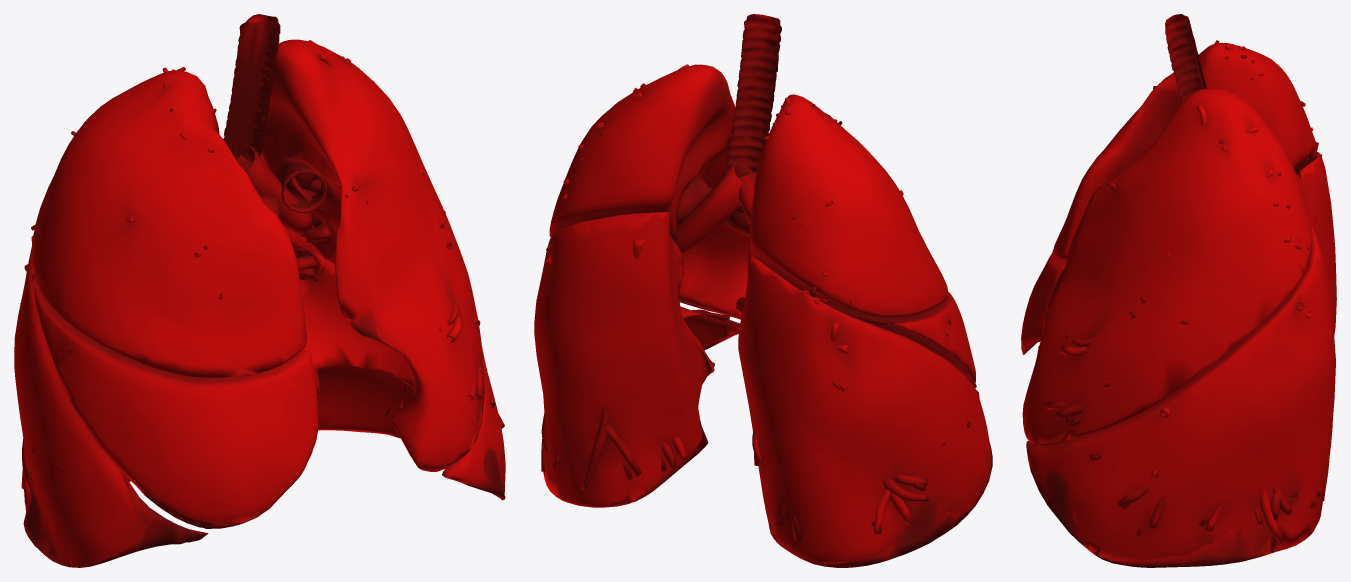
Rendered from pljuca.glb.
3 renders of one model, left to right at view 1: azimuth 30°, elevation 25°; view 2: azimuth 150°, elevation 25°; view 3: azimuth 270°, elevation 25°, orthographic. The views are drawn at different scales.
Parts seen in each view (by area): view 1: Superior lobe of right lung, Superior lobe of left lung, Middle lobe of right lung, Inferior lobe of right lung, Inferior lobe of left lung, Trachea, Left main bronchus, Left pulmonary artery; view 2: Inferior lobe of right lung, Inferior lobe of left lung, Superior lobe of right lung, Superior lobe of left lung, Trachea, Middle lobe of right lung, Left main bronchus, Posterior basal segmental artery of left lung, Anterior basal segmental artery of right lung, Left pulmonary artery, Lateral basal segmental bronchus of right lung (BIX), Right main bronchus; view 3: Superior lobe of left lung, Inferior lobe of left lung, Superior lobe of right lung, Inferior lobe of right lung, Trachea, Middle lobe of right lung, Lateral basal segmental bronchus of left lung (BIX), Anterior basal segmental artery of left lung, Lateral basal segmental artery of left lung, Inferior lingular artery of left lung.
Part boxes in pixels (left/top/right/bottom): Superior lobe of right lung: left=31, top=70, right=306, bottom=377; Superior lobe of left lung: left=261, top=39, right=484, bottom=471; Middle lobe of right lung: left=32, top=273, right=318, bottom=528; Inferior lobe of right lung: left=14, top=245, right=208, bottom=567; Inferior lobe of left lung: left=260, top=154, right=505, bottom=500; Trachea: left=223, top=14, right=280, bottom=163; Left main bronchus: left=243, top=144, right=313, bottom=235; Left pulmonary artery: left=281, top=164, right=327, bottom=213; Inferior lobe of right lung: left=738, top=254, right=992, bottom=567; Inferior lobe of left lung: left=534, top=212, right=740, bottom=507; Superior lobe of right lung: left=749, top=94, right=947, bottom=317; Superior lobe of left lung: left=549, top=64, right=751, bottom=319; Trachea: left=718, top=14, right=781, bottom=205; Middle lobe of right lung: left=827, top=291, right=976, bottom=387; Left main bronchus: left=675, top=162, right=753, bottom=254; Posterior basal segmental artery of left lung: left=581, top=406, right=676, bottom=490; Anterior basal segmental artery of right lung: left=871, top=475, right=929, bottom=525; Left pulmonary artery: left=677, top=176, right=709, bottom=225; Lateral basal segmental bronchus of right lung (BIX): left=874, top=489, right=914, bottom=534; Right main bronchus: left=738, top=172, right=756, bottom=224; Superior lobe of left lung: left=1022, top=88, right=1312, bottom=445; Inferior lobe of left lung: left=1026, top=225, right=1335, bottom=567; Superior lobe of right lung: left=1052, top=43, right=1316, bottom=259; Inferior lobe of right lung: left=1038, top=153, right=1336, bottom=347; Trachea: left=1165, top=14, right=1206, bottom=102; Middle lobe of right lung: left=1021, top=253, right=1067, bottom=354; Lateral basal segmental bronchus of left lung (BIX): left=1204, top=489, right=1284, bottom=543; Anterior basal segmental artery of left lung: left=1199, top=485, right=1323, bottom=526; Lateral basal segmental artery of left lung: left=1089, top=453, right=1165, bottom=528; Inferior lingular artery of left lung: left=1054, top=405, right=1085, bottom=428.
Size of the model in its own units: 0.2583 by 0.2922 by 0.1821.
1 material, 1 textured.
